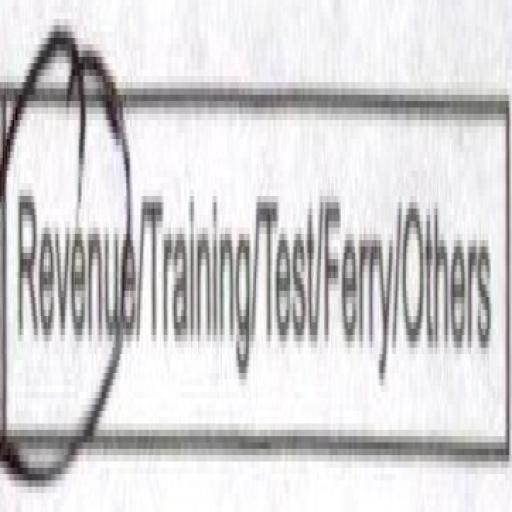check: (2, 15, 132, 512)
